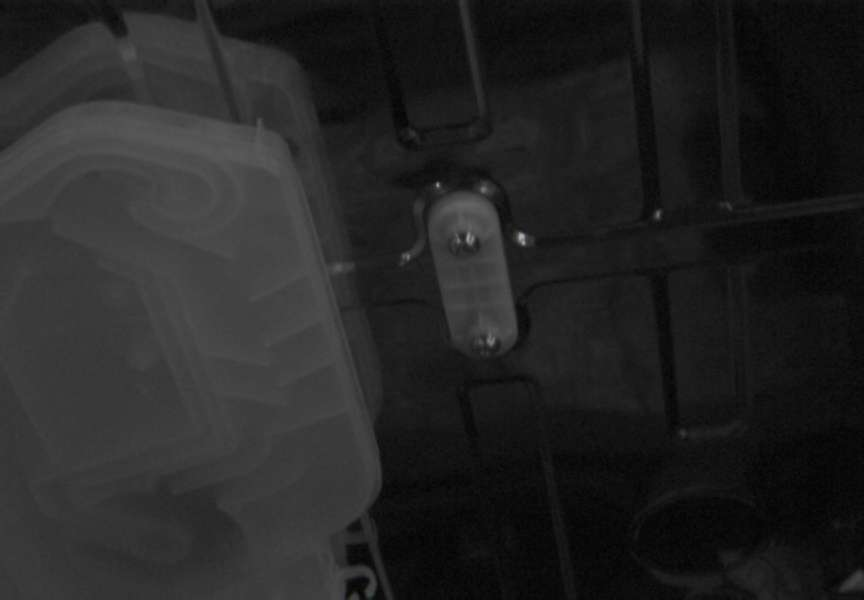screw: (449, 230, 481, 256), (471, 332, 501, 358)
